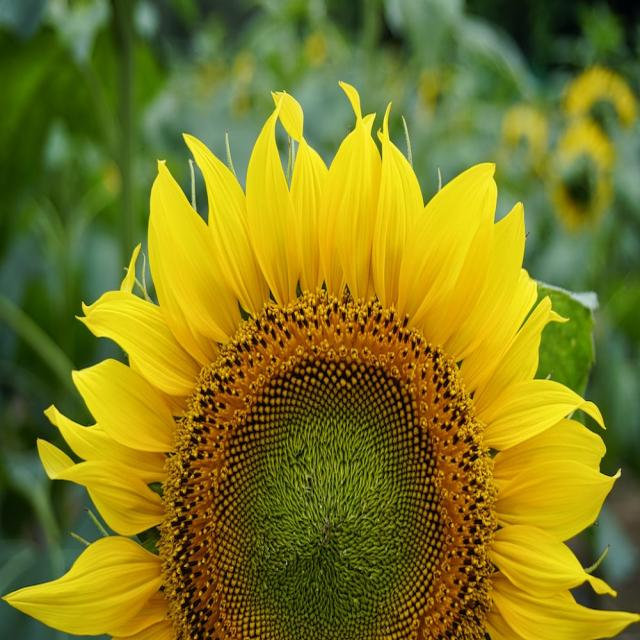sunflower: (0, 65, 640, 640), (538, 120, 628, 242), (560, 60, 640, 156), (494, 101, 548, 180)
